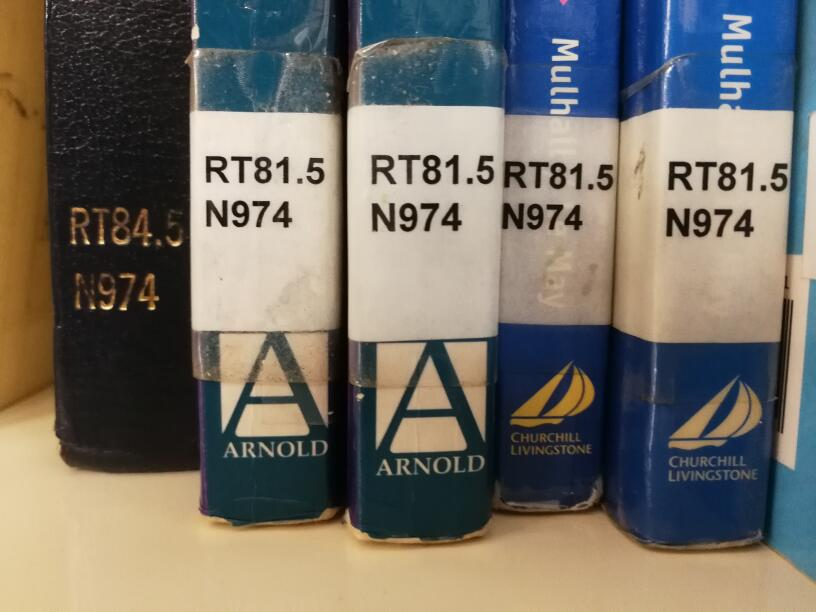booklabel: (67, 203, 190, 313), (367, 152, 495, 233), (663, 159, 790, 239), (202, 153, 327, 229), (500, 158, 615, 232)
